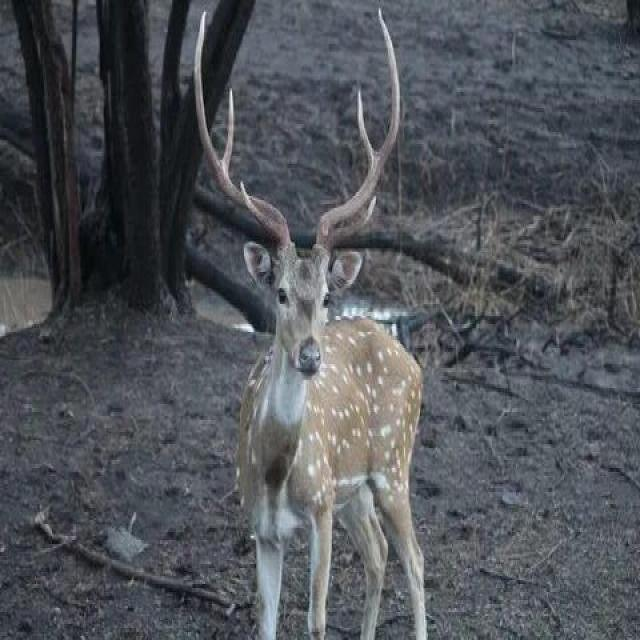deer: (82, 31, 480, 604)
